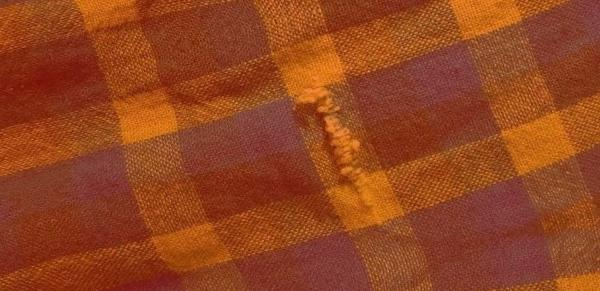knot: (289, 83, 381, 221)
